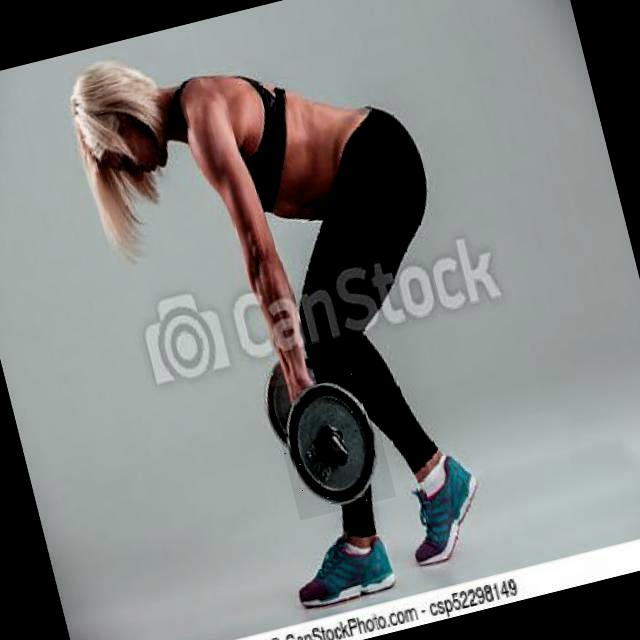barbell: (267, 365, 397, 520)
